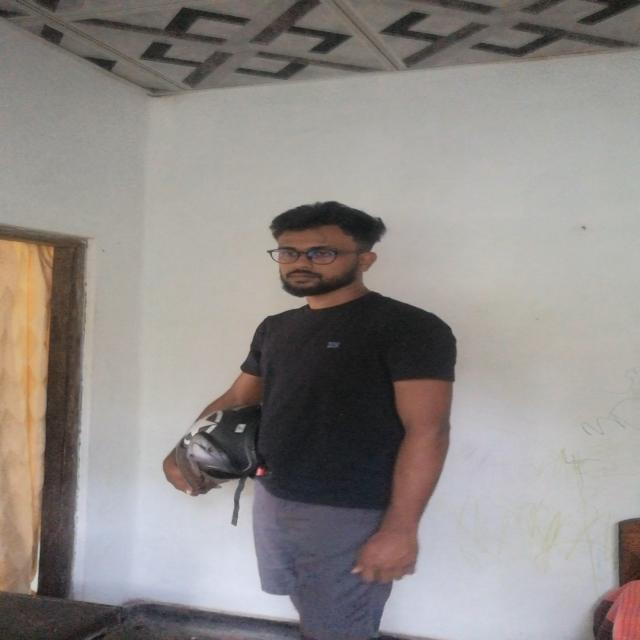Person: (178, 194, 470, 634)
